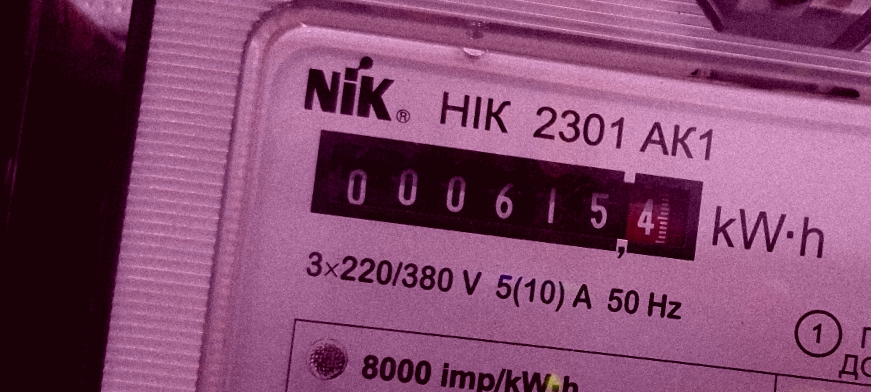0: (439, 170, 470, 216), (340, 163, 371, 207), (392, 164, 421, 207)
1: (541, 183, 561, 226)
4: (633, 194, 658, 237)
5: (583, 187, 612, 232)
6: (488, 177, 518, 221)
screen: (292, 108, 719, 284)
